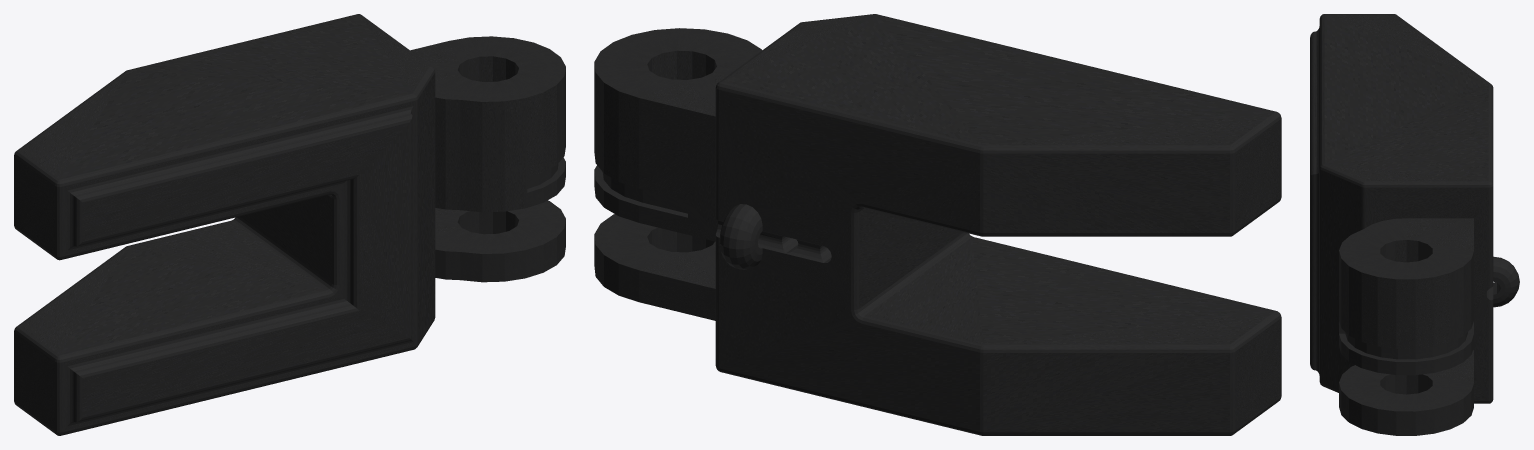
Rendered from gripper_right_distal_link.dae.
3 views of the same model, side by side, from view 1: azimuth 30°, elevation 25°; view 2: azimuth 150°, elevation 25°; view 3: azimuth 270°, elevation 25° (orthographic). The views are drawn at different scales.
Visible parts, largest first — view 1: node; view 2: node; view 3: node.
Part boxes in pixels (x1,y1,x2,y2): node: [14, 14, 565, 435]; node: [594, 14, 1281, 435]; node: [1310, 14, 1519, 435].
Size of the model in its own units: 0.0569 by 0.0217 by 0.0254.
Materials: 1 (1 with a texture image).
